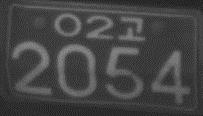0: (55, 42, 97, 98), (54, 11, 82, 38)
2: (10, 39, 53, 97), (85, 14, 115, 40)
4: (151, 49, 191, 104)
5: (104, 45, 144, 100)
고: (117, 15, 145, 42)
